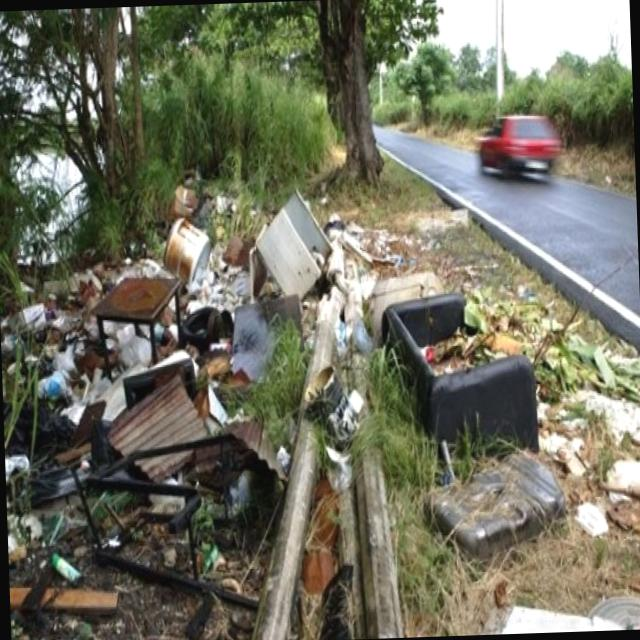garbage: (2, 183, 595, 640)
